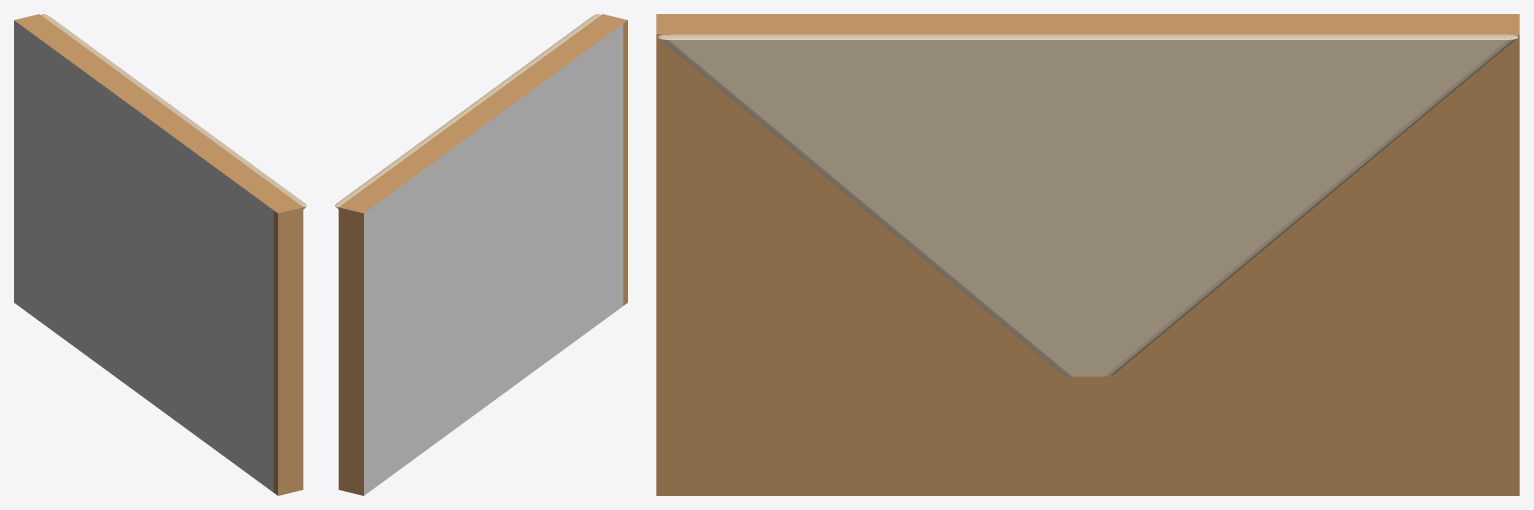
Rendered from envelope_new.glb.
The picture shows the model from 3 angles, left to right: view 1: azimuth 30°, elevation 25°; view 2: azimuth 150°, elevation 25°; view 3: azimuth 270°, elevation 25°; orthographic projection. The views are drawn at different scales.
Visible parts, largest first — view 1: ENV_body, ENV_Flap; view 2: ENV_body, ENV_Flap; view 3: ENV_body, ENV_Flap.
Boxes of the visible parts, <box> form: ENV_body: <box>14,14,303,495</box>; ENV_Flap: <box>41,14,306,209</box>; ENV_body: <box>338,14,627,495</box>; ENV_Flap: <box>335,14,600,209</box>; ENV_body: <box>656,14,1519,495</box>; ENV_Flap: <box>657,34,1518,376</box>.
Size of the model in its own units: 0.1132 by 0.9752 by 1.65.
